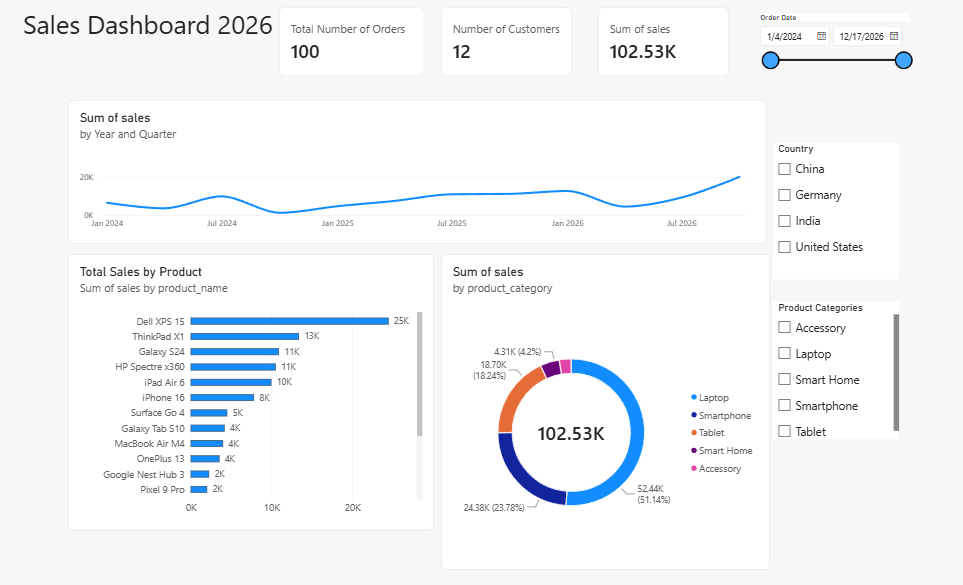

This screenshot's page, from the dashboard's own definition file:
{"tool":"powerbi","page":{"name":"Page 1","canvas":[1920,1080],"ordinal":0},"visuals":[{"type":"barChart","title":"Total Sales by Product","fields":{"Category":["orders.product_name"],"Y":["Sum(orders.sales)"]},"box":[340,381.2,533.8,402.5],"z":0},{"type":"donutChart","fields":{"Category":["orders.product_category"],"Y":["Sum(orders.sales)"]},"box":[883.8,381.2,480,461.2],"z":1000},{"type":"cardVisual","fields":{"Data":["CountNonNull(orders.order_id)"]},"box":[647.5,20,212.5,101.2],"z":2000},{"type":"cardVisual","fields":{"Data":["CountNonNull(customers.customer_id)"]},"box":[883.8,20,191.2,101.2],"z":3000},{"type":"cardVisual","fields":{"Data":["Sum(orders.sales)"]},"box":[1113.8,20,191.2,101.2],"z":4000},{"type":"lineChart","fields":{"Category":["orders.order_date.Variation.Date Hierarchy.Year","orders.order_date.Variation.Date Hierarchy.Quarter","orders.order_date.Variation.Date Hierarchy.Month","orders.order_date.Variation.Date Hierarchy.Day"],"Y":["Sum(orders.sales)"]},"box":[340,156.2,1018.8,210],"z":5000},{"type":"slicer","fields":{"Values":["customers.country"]},"box":[1368.8,218.8,183.8,198.8],"z":6000},{"type":"slicer","fields":{"Values":["orders.product_category"]},"box":[1368.8,451.2,183.8,200],"z":7000},{"type":"slicer","fields":{"Values":["orders.order_date"]},"box":[1342.5,28.8,233.8,85],"z":8000},{"type":"textbox","box":[1620,140,300,300],"z":8001},{"type":"textbox","box":[273.8,20,373.8,73.8],"z":8002}]}

Visuals, with their boxes on the page's 1920x1080 design canvas (x1, y1, x2, y2). These are canvas units, not pixel positions in the 963x585 screenshot, which may show the page scaled, cropped or inside an application window:
"Total Sales by Product" barChart: bbox=[340, 381, 874, 784]
donutChart - orders.product_category x Sum(orders.sales): bbox=[884, 381, 1364, 842]
cardVisual - CountNonNull(orders.order_id): bbox=[648, 20, 860, 121]
cardVisual - CountNonNull(customers.customer_id): bbox=[884, 20, 1075, 121]
cardVisual - Sum(orders.sales): bbox=[1114, 20, 1305, 121]
lineChart - orders.order_date.Variation.Date Hierarchy.Year x orders.order_date.Variation.Date Hierarchy.Quarter: bbox=[340, 156, 1359, 366]
slicer - customers.country: bbox=[1369, 219, 1553, 418]
slicer - orders.product_category: bbox=[1369, 451, 1553, 651]
slicer - orders.order_date: bbox=[1342, 29, 1576, 114]
textbox: bbox=[1620, 140, 1920, 440]
textbox: bbox=[274, 20, 648, 94]
